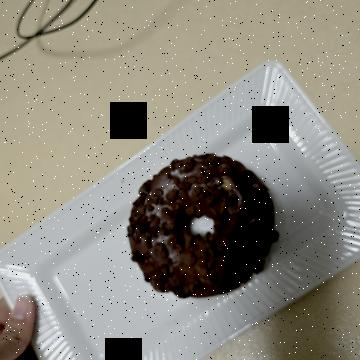doughnut: (137, 76, 314, 248)
